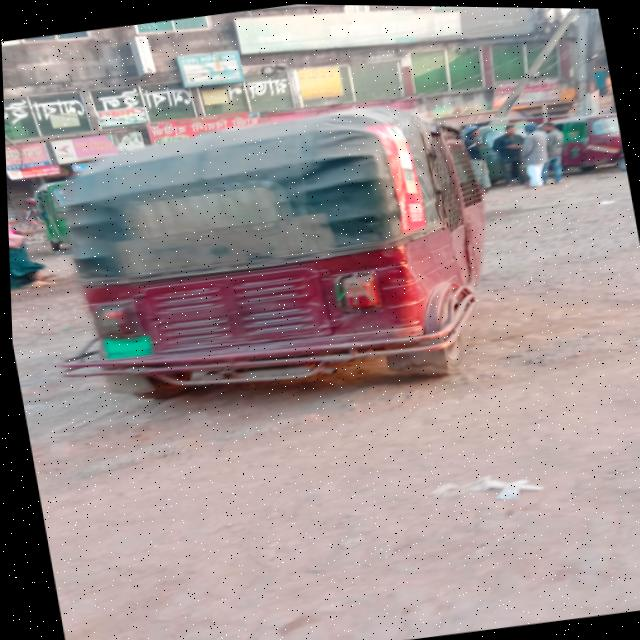cng: (2, 64, 535, 485)
